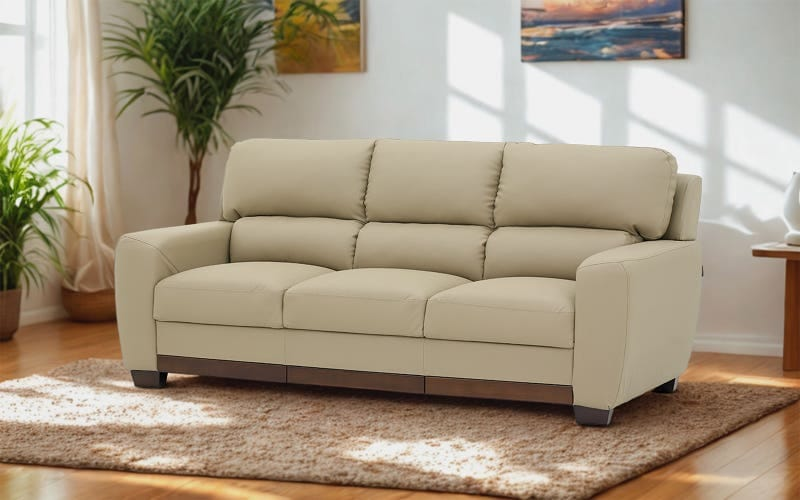3seatersofa: (115, 139, 701, 425)
backrest: (223, 139, 674, 279), (664, 174, 701, 239)
base: (159, 324, 572, 403)
leftarmrest: (573, 240, 700, 408)
leg: (573, 405, 612, 424), (132, 371, 165, 387), (654, 379, 677, 392)
rightarmrest: (116, 221, 232, 368)
seat: (155, 262, 574, 346)
